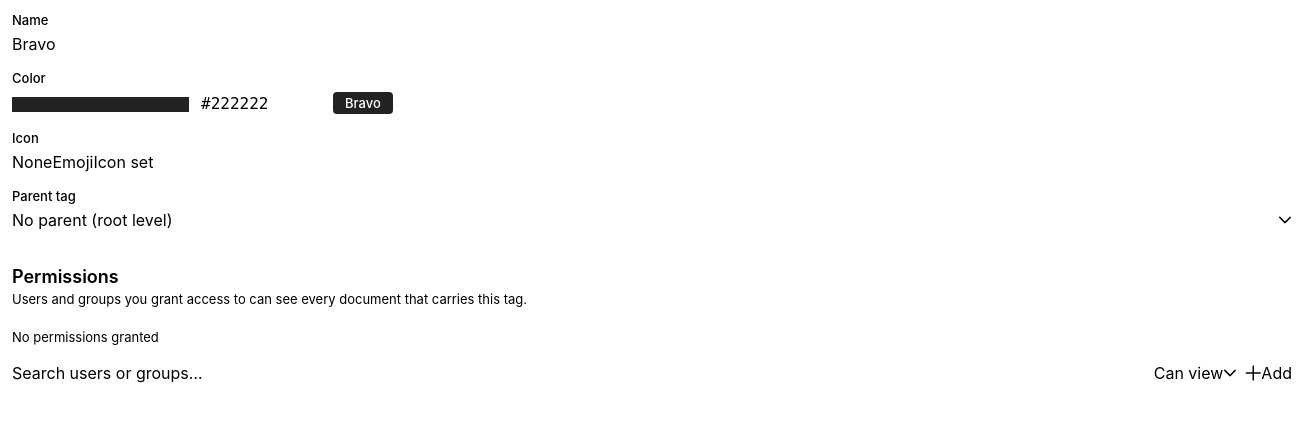
TagForm — the manual hex code field (#303) › refuses a code that is not a colour, leaving the tag on its last valid one
The image size is (1304, 421).
Replace the text in the field with id "tag-color-hex" with "#12345" at (261,103), box x1=201 y1=94 x2=321 y2=113
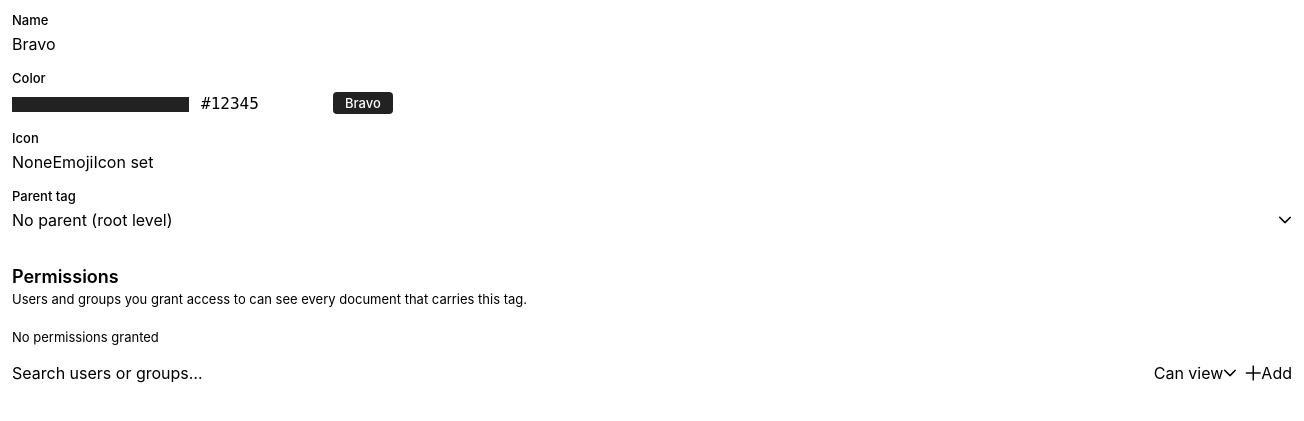
Leave the field with id "tag-color-hex", box x1=201 y1=94 x2=321 y2=113
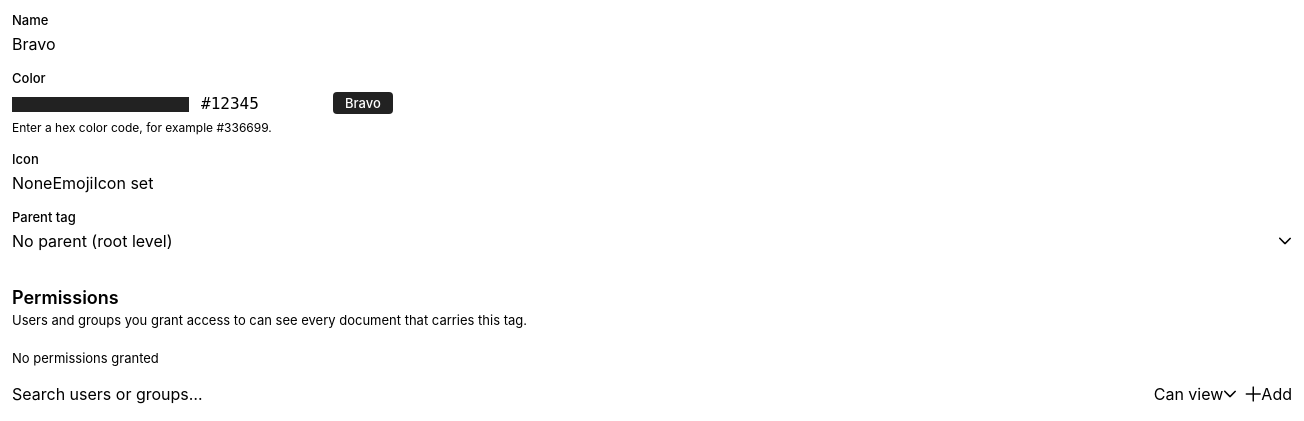
Result: the message with class "field-error" shows "#336699" at x1=12 y1=120 x2=272 y2=135
